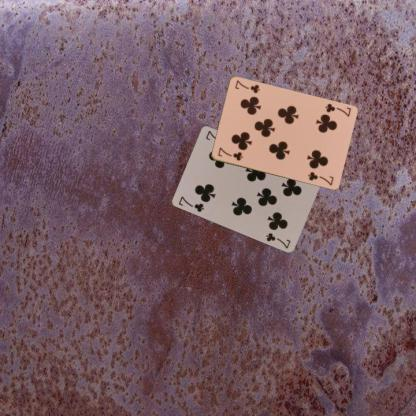7c: (176, 194, 206, 213), (322, 101, 352, 118), (215, 145, 244, 162)
